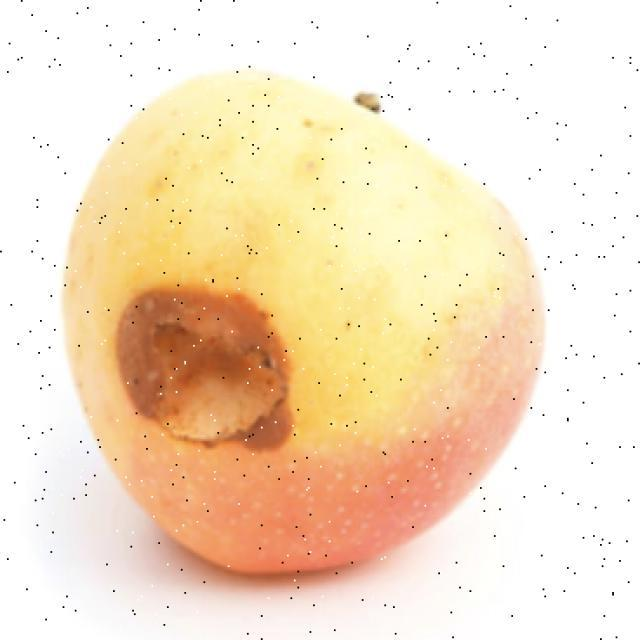Rotten: (78, 81, 560, 596)
